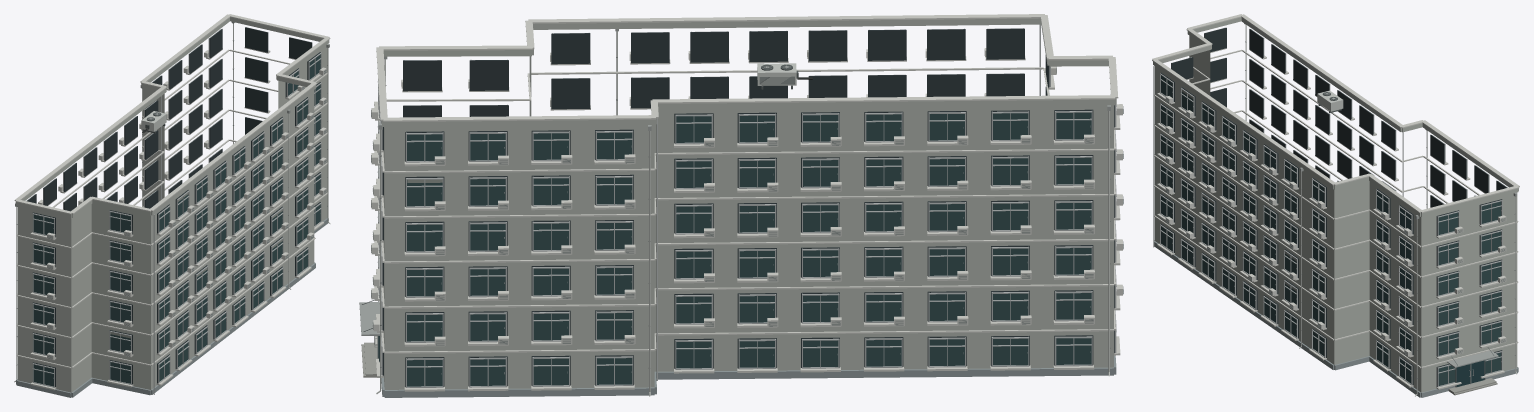
File: osm_way_225198912.glb
3 renders of one model, left to right at view 1: azimuth 30°, elevation 25°; view 2: azimuth 150°, elevation 25°; view 3: azimuth 270°, elevation 25°, orthographic. The views are drawn at different scales.
Parts seen in each view (by area): view 1: Windows and facade details | 26, Architecture | 26, Roof services | 26, EXTERIOR::osm_way_225198912::rainwater and roof service deta; view 2: Architecture | 26, Windows and facade details | 26, Roof services | 26, EXTERIOR::osm_way_225198912::rainwater and roof service deta, EXTERIOR::osm_way_225198912::inferred entry doors canopy and; view 3: Architecture | 26, Windows and facade details | 26, Roof services | 26, EXTERIOR::osm_way_225198912::rainwater and roof service deta, EXTERIOR::osm_way_225198912::inferred entry doors canopy and.
Boxes of the visible parts, x1,y1,x2,y2 form: Windows and facade details | 26: [26, 27, 326, 394]; Architecture | 26: [15, 17, 329, 397]; Roof services | 26: [14, 14, 330, 214]; EXTERIOR::osm_way_225198912::rainwater and roof service deta: [14, 22, 330, 382]; Architecture | 26: [379, 18, 1116, 397]; Windows and facade details | 26: [371, 24, 1123, 391]; Roof services | 26: [376, 14, 1118, 121]; EXTERIOR::osm_way_225198912::rainwater and roof service deta: [376, 29, 1110, 396]; EXTERIOR::osm_way_225198912::inferred entry doors canopy and: [359, 299, 381, 377]; Architecture | 26: [1153, 17, 1518, 397]; Windows and facade details | 26: [1153, 27, 1507, 389]; Roof services | 26: [1152, 14, 1519, 213]; EXTERIOR::osm_way_225198912::rainwater and roof service deta: [1244, 23, 1517, 396]; EXTERIOR::osm_way_225198912::inferred entry doors canopy and: [1447, 347, 1498, 395].
Size of the model in its own units: 45.08 by 20.58 by 35.33.
